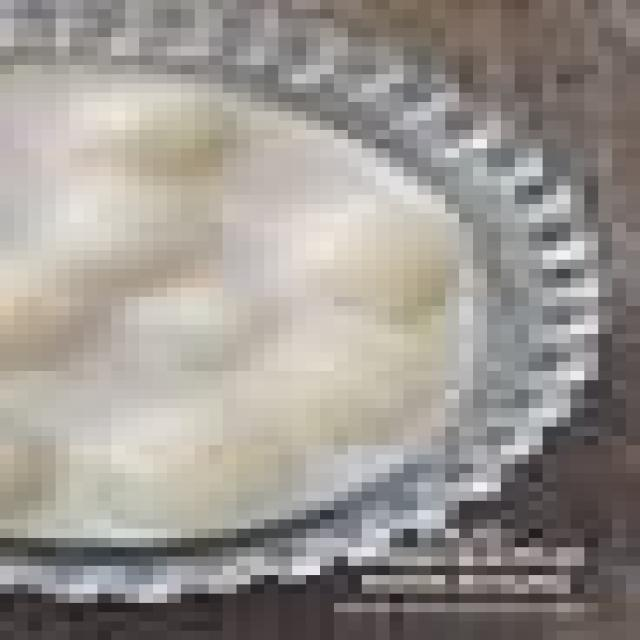paal kolukattai: (0, 0, 480, 527)
